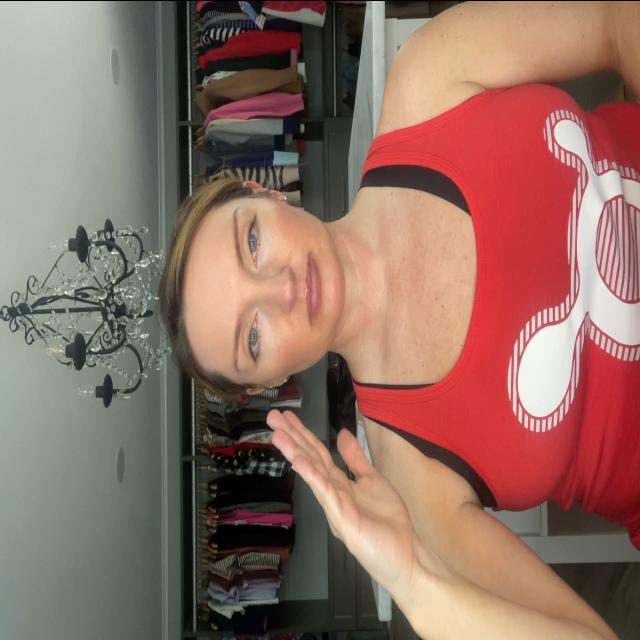Paper: (262, 418, 411, 588)
